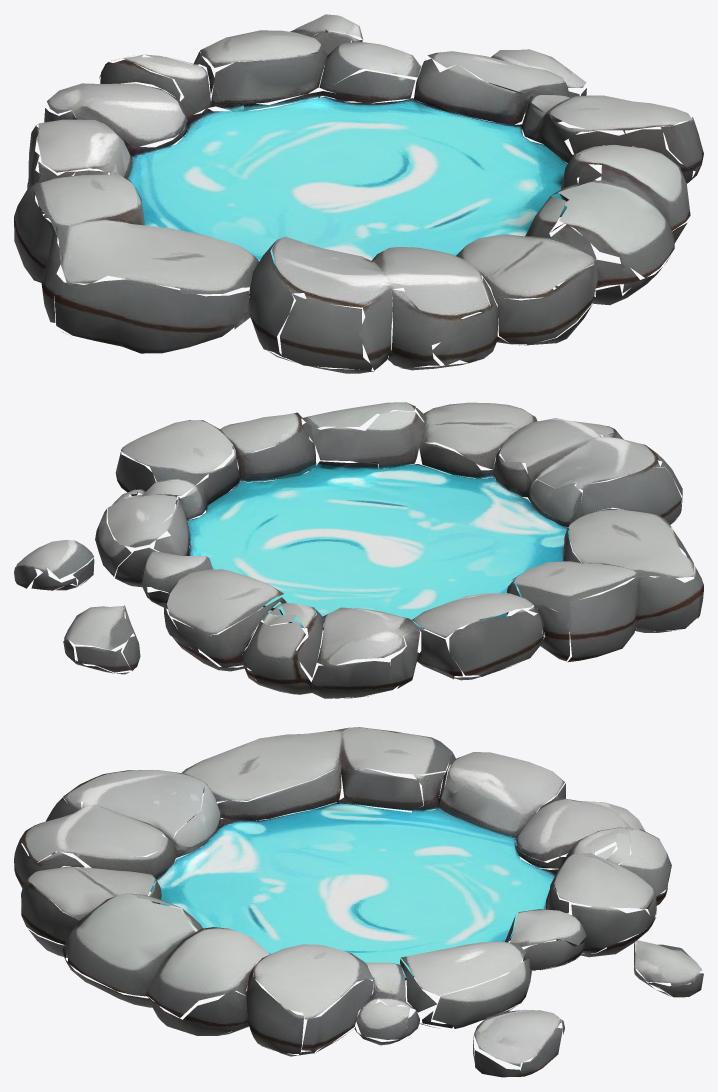
Rendered from kaplica_kaya.glb.
The picture shows the model from 3 angles, top to bottom: view 1: azimuth 30°, elevation 25°; view 2: azimuth 150°, elevation 25°; view 3: azimuth 270°, elevation 25°; orthographic projection. The views are drawn at different scales.
Parts seen in each view (by area): view 1: geometry_0; view 2: geometry_0; view 3: geometry_0.
Boxes of the visible parts, bbox=[...] form: geometry_0: bbox=[14, 14, 703, 373]; geometry_0: bbox=[14, 402, 703, 698]; geometry_0: bbox=[14, 727, 703, 1077].
Bounding box in the file's own units: 0.9878 × 0.1487 × 0.9911.
Materials: 1 (1 with a texture image).
